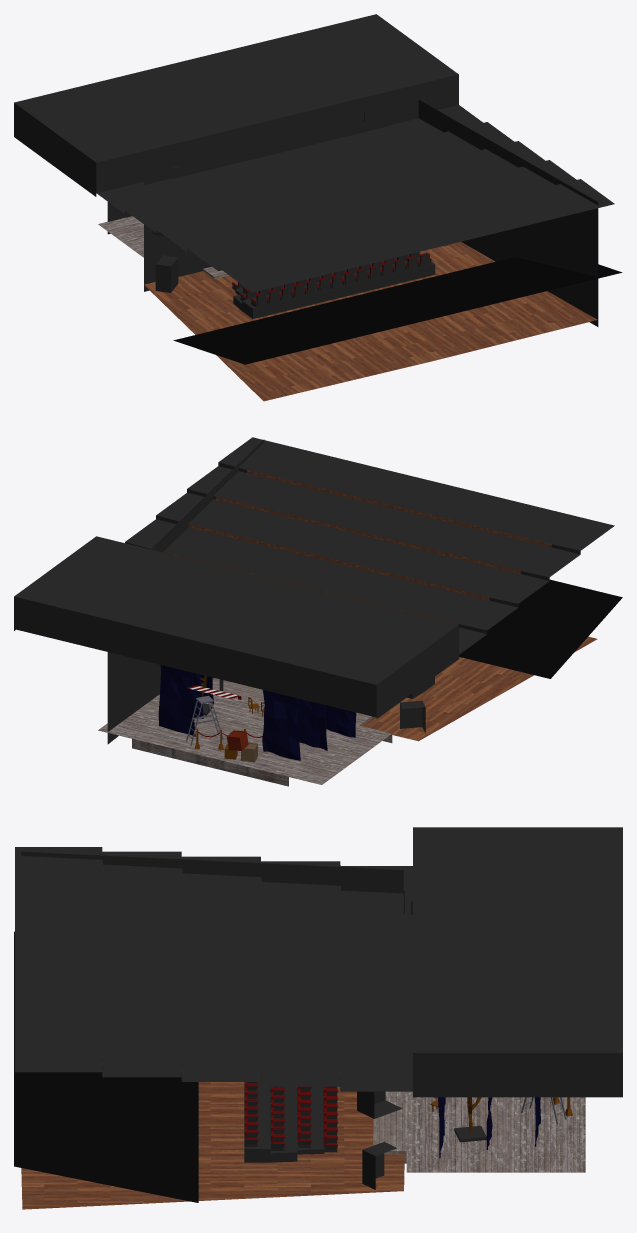
Rendered from StageV2.glb.
The picture shows the model from 3 angles, top to bottom: view 1: azimuth 30°, elevation 25°; view 2: azimuth 150°, elevation 25°; view 3: azimuth 270°, elevation 25°; orthographic projection. The views are drawn at different scales.
Visible parts, largest first — view 1: Roof, Floor, BackWall, Wall.001, Stage-wall, Cube.005, Cube.006, Wall, Stage-floor, Cube.003, Cube.009; view 2: Roof, Stage-floor, BackWall, Floor, Stage-wall, Curtain.006, Curtain.005, Curtain.004, Wall.001, Curtain, Cube.009, Ladder; view 3: Roof, BackWall, Floor, Stage-floor, Wall, Cube.005, Cube.002, Cube, Cube.004, Cube.003, Cube.017, Cube.006 (+3 smaller).
Boxes of the visible parts, x1,y1,x2,y2 form: Roof: (14,14,614,292); Floor: (144,241,597,401); BackWall: (173,257,622,364); Wall.001: (364,99,598,326); Stage-wall: (107,115,390,276); Cube.005: (242,257,435,318); Cube.006: (250,253,431,307); Wall: (144,159,176,291); Stage-floor: (98,216,228,279); Cube.003: (240,252,420,300); Cube.009: (155,255,178,292); Roof: (14,437,614,718); Stage-floor: (98,678,392,786); BackWall: (459,579,622,678); Floor: (212,636,597,741); Stage-wall: (107,652,223,744); Curtain.006: (262,690,300,760); Curtain.005: (158,665,195,736); Curtain.004: (298,698,327,750); Wall.001: (151,439,264,552); Curtain: (325,705,356,737); Cube.009: (400,700,425,733); Ladder: (186,695,223,745); Roof: (15,827,622,1097); BackWall: (14,931,198,1202); Floor: (21,1082,404,1209); Stage-floor: (373,1091,585,1172); Wall: (21,851,404,913); Cube.005: (244,1082,270,1162); Cube.002: (270,1086,297,1162); Cube: (297,1086,324,1154); Cube.004: (323,1086,337,1152); Cube.003: (270,1086,284,1150); Cube.017: (362,1142,396,1189); Cube.006: (244,1082,258,1146).
Size of the model in its own units: 21.01 by 7.58 by 23.02.
Materials: 13 (2 with a texture image).
